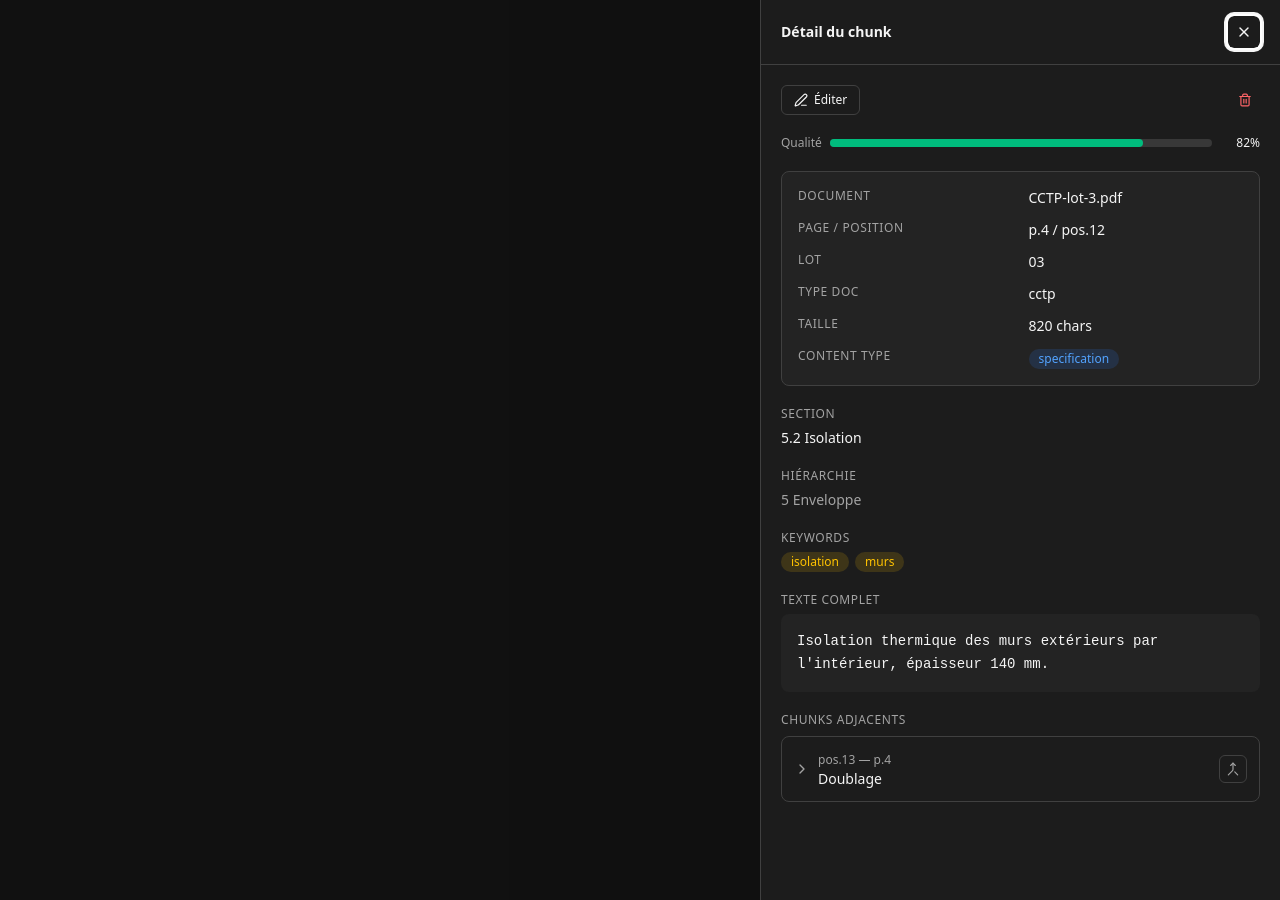
it: ChunkDetail — the panel says what failed and never fakes a success › shows a failed deletion inside the panel, without closing the chunk detail
The width and height of the screenshot is (1280, 900).
Click the button named "Supprimer le chunk" at point(1245, 100), box top-left (1230, 87), bottom-right (1260, 113)
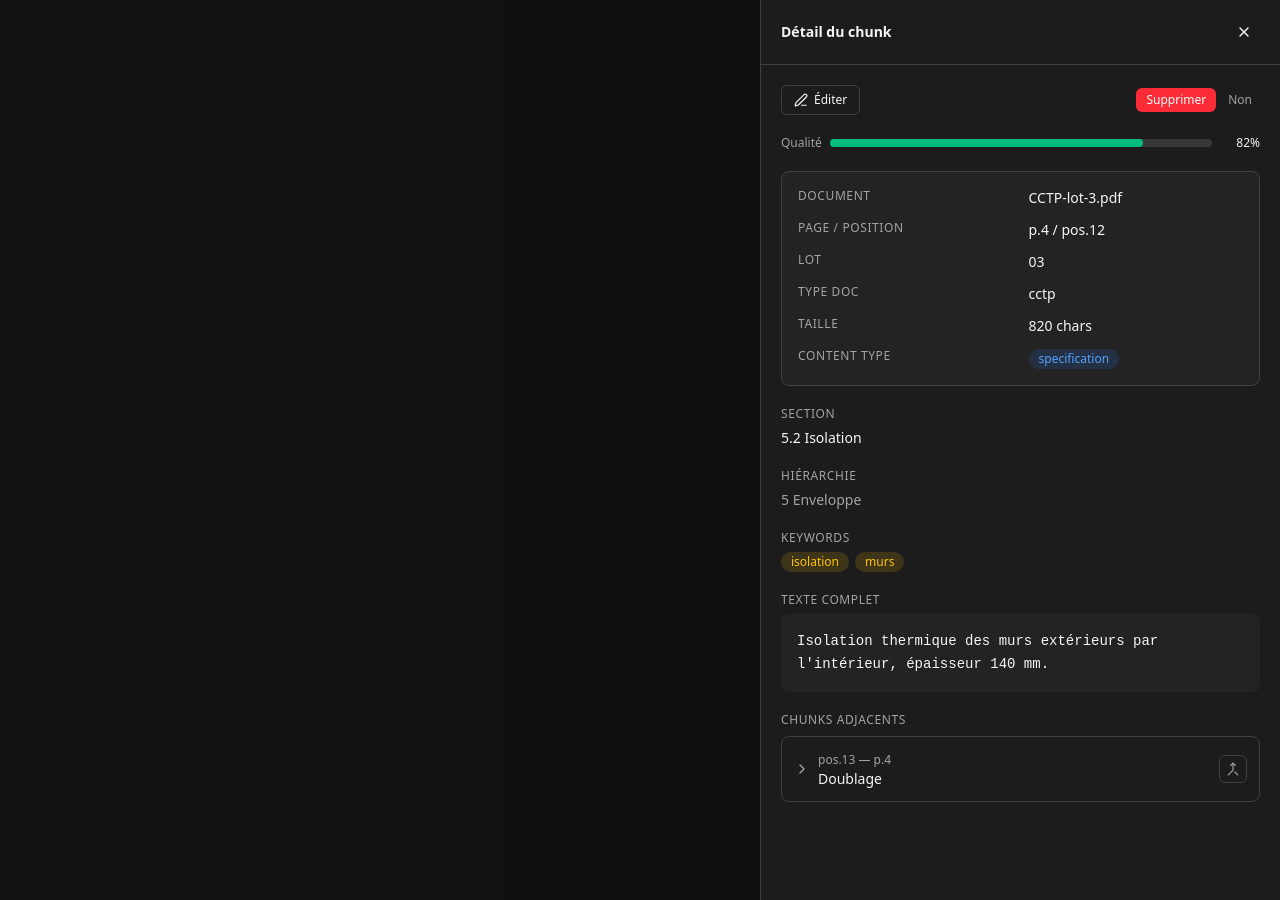
Click the button "Supprimer" at point(1176, 100), box top-left (1136, 88), bottom-right (1216, 112)
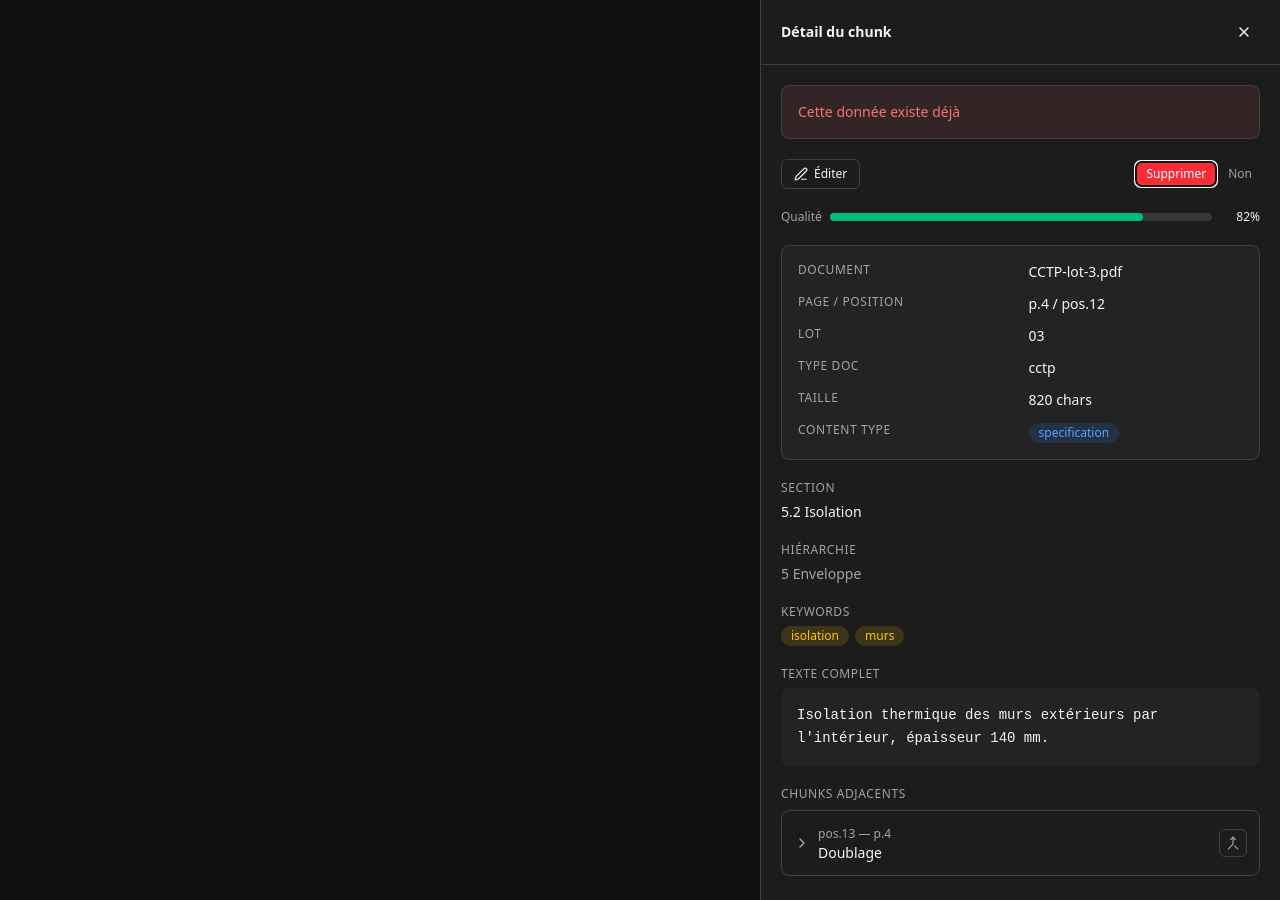
Expected: the text "Isolation thermique des murs extérieurs par l'intérieur, épaisseur 140 mm." is shown, top-left (781, 688), bottom-right (1260, 766)
Now the message reads "Cette donnée existe déjà", box top-left (798, 102), bottom-right (960, 121)
